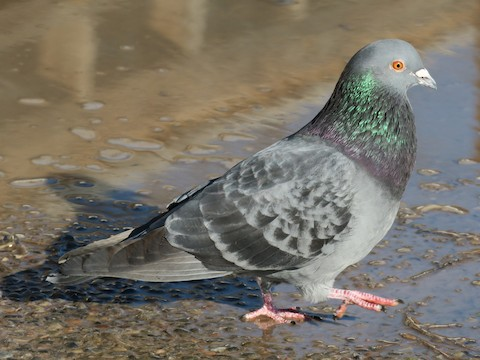pigeon: (44, 35, 442, 328)
